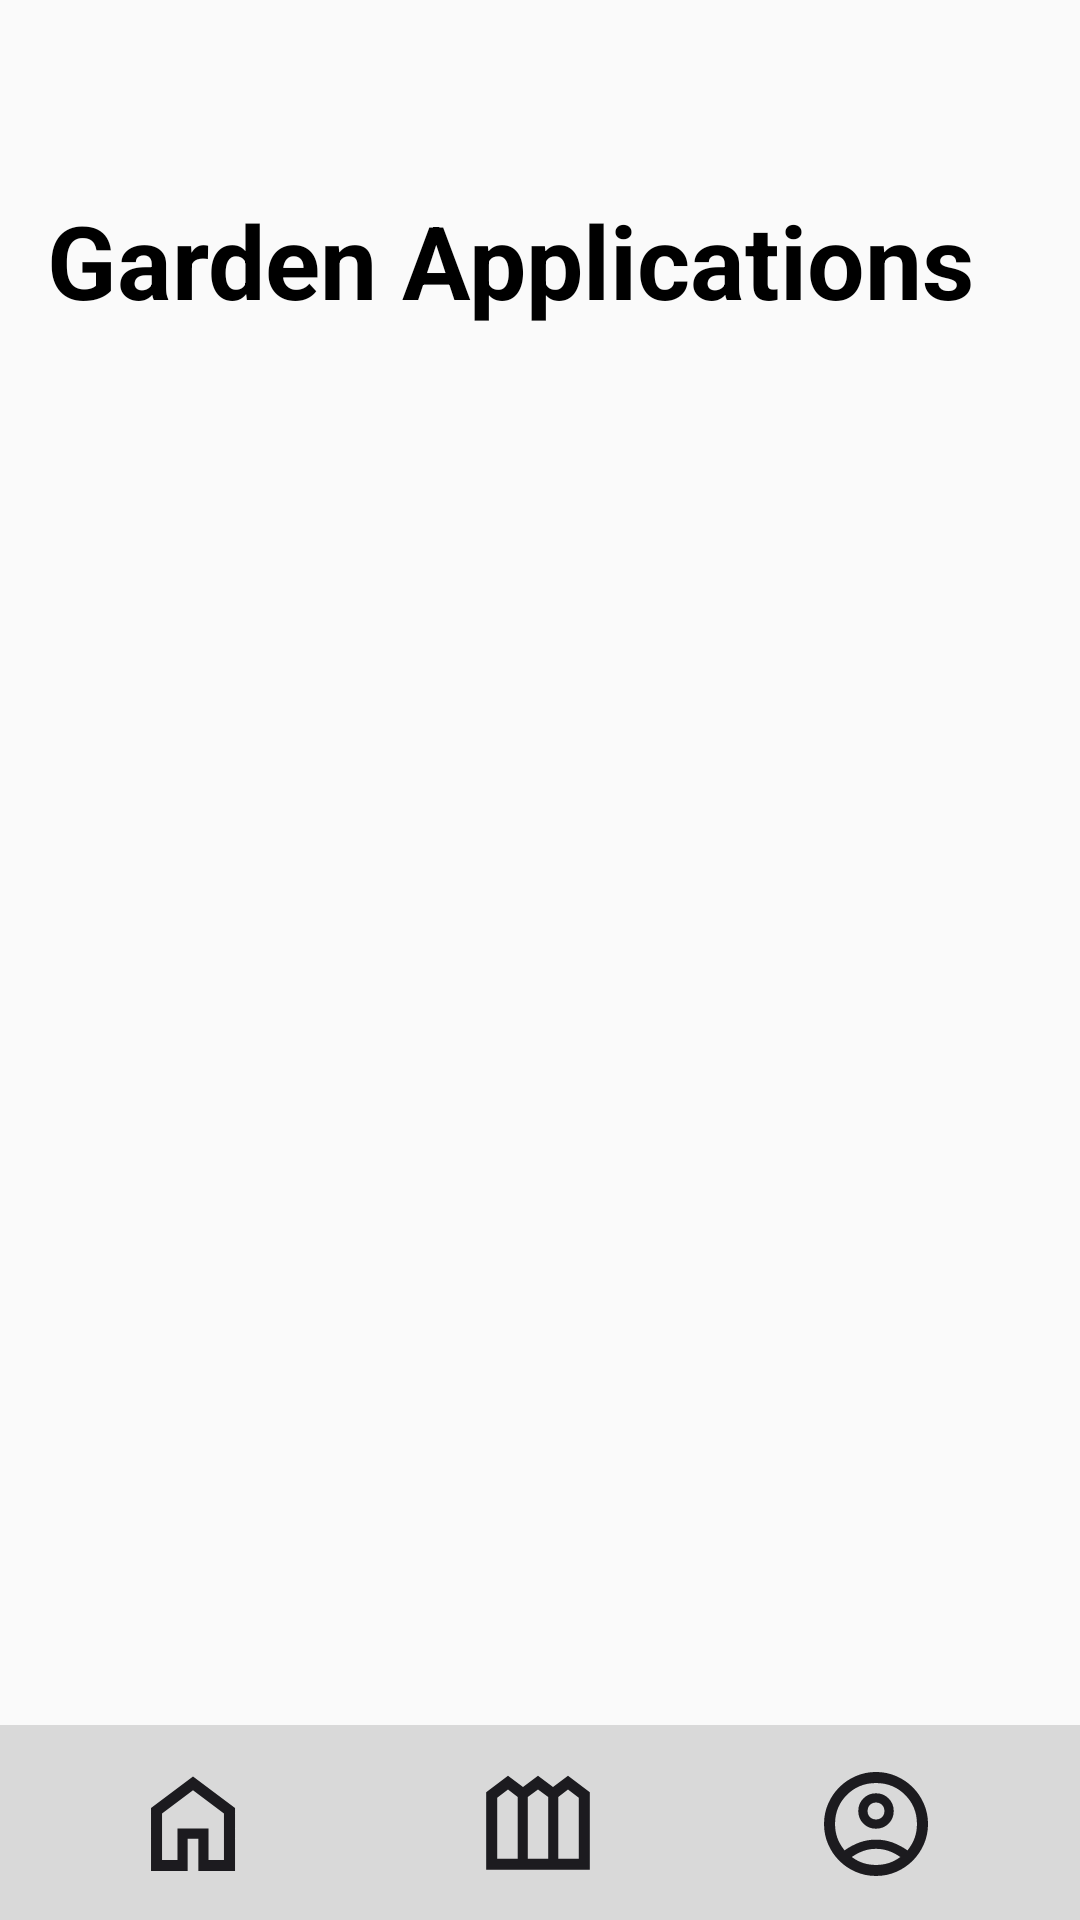

Where icons sit on this 1080w x 1920h app screen, as (x1, y1, x2, y2):
home: (151, 1776, 235, 1871)
outdoor garden: (486, 1776, 590, 1870)
